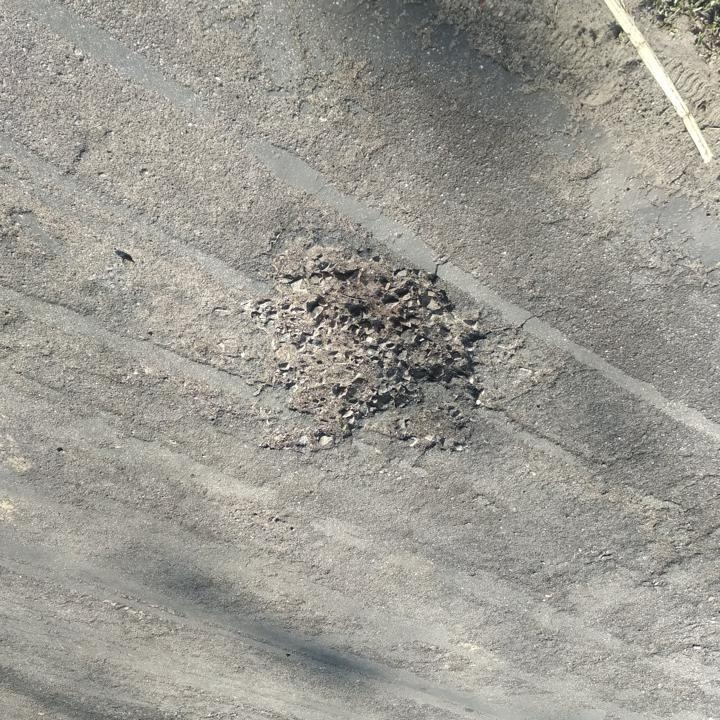pothole: (258, 244, 481, 451)
